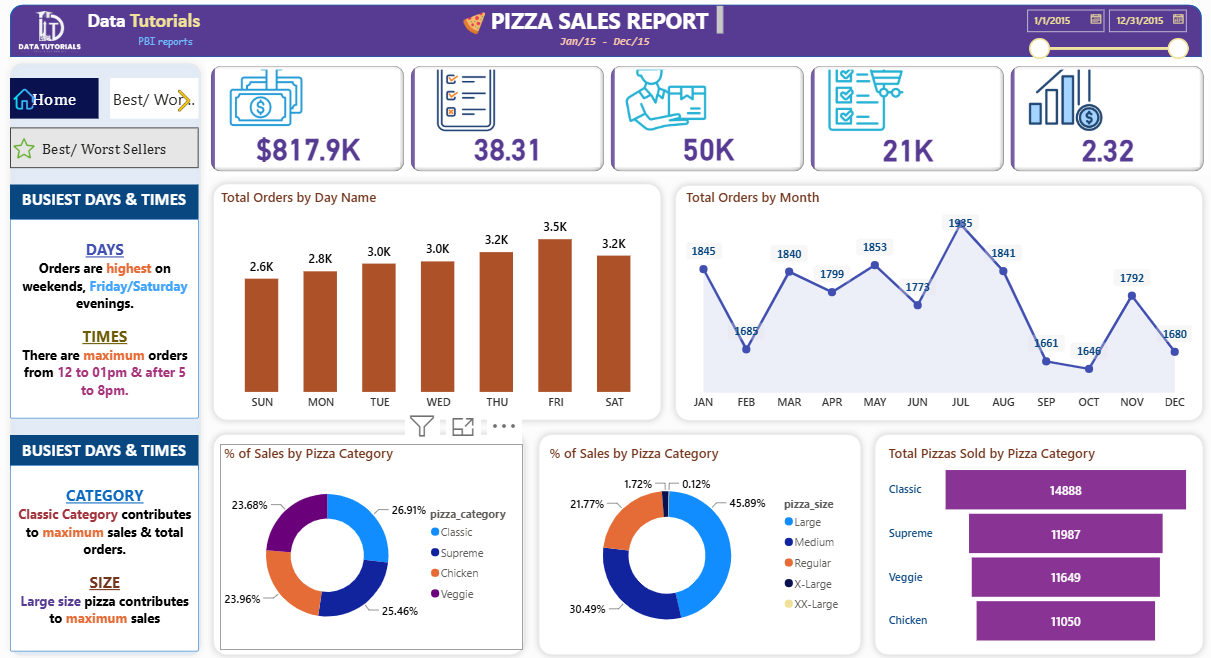

The dashboard page shown, as its layout file describes it:
{"tool":"tableau","page":{"name":"Home","canvas":[1600,900],"ordinal":1},"visuals":[{"type":"image","param":"Image/Pizza Tableau.jpg","box":[0,0,1600,900]},{"type":"text","box":[107,16,153,31]},{"type":"text","box":[618,16,362,36]},{"type":"filter","title":"Total Orders Trend by Order Hour","param":"[federated.1nn7g37097crt1180lo9p08y1th8].[none:order_date:qk]","box":[1376,16,200,57]},{"type":"filter","title":"Total Orders Trend by Order Hour","param":"[federated.1nn7g37097crt1180lo9p08y1th8].[none:pizza_category:nk]","box":[1186,17,182,59]},{"type":"image","param":"Image/DT 2.png","box":[21,20,72,49]},{"type":"image","param":"Image/pizza-slice.png","box":[577,22,44,28]},{"type":"text","box":[143,40,110,31]},{"type":"worksheet","title":"Date Range","mark":"Automatic","box":[692,52,205,20]},{"type":"image","param":"Image/profit-growth.png","box":[389,91,45,37]},{"type":"image","param":"Image/delivery-man.png","box":[1165,92,40,34]},{"type":"image","param":"Image/shipping-box.png","box":[645,94,43,31]},{"type":"image","param":"Image/order-delivery.png","box":[910,94,38,31]},{"type":"image","param":"Image/order (1).png","box":[1422,95,41,34]},{"type":"dashboard-object","box":[26,106,233,47]},{"type":"image","param":"Image/home (1) 1.png","box":[27,113,42,36]},{"type":"worksheet","title":"KPI Banner","mark":"Automatic","box":[281,134,1290,82]},{"type":"dashboard-object","box":[26,162,233,47]},{"type":"image","param":"Image/choice 1.png","box":[27,167,42,36]},{"type":"text","box":[18,232,250,30]},{"type":"worksheet","title":"Total Orders by Month ","mark":"Area","rows":["Calculation_1225260629919797248","Calculation_1225260629919797248"],"cols":["order_date"],"box":[931,234,645,298]},{"type":"legend","title":"Total Orders Trend by Order Hour","param":"[federated.1nn7g37097crt1180lo9p08y1th8].[none:pizza_category:nk]","box":[695,236,252,45]},{"type":"worksheet","title":"Total Orders Trend by Order Hour","mark":"Bar","rows":["Calculation_1225260629920124930","Calculation_1225260629920124930"],"cols":["order_time"],"box":[282,238,628,293]},{"type":"text","box":[21,262,243,274]},{"type":"text","box":[18,547,250,30]},{"type":"worksheet","title":"% of Sales by Pizza Category","mark":"Pie","rows":["Calculation_1225260630074863622","Calculation_1225260630263562255"],"box":[286,554,415,322]},{"type":"text","box":[1185,555,372,30]},{"type":"worksheet","title":"Sheet 8","mark":"Line","rows":["pizza_size"],"box":[730,556,428,322]},{"type":"text","box":[23,577,239,306]},{"type":"legend","title":"Total Orders & Quantity Sold by Pizza Category (2)","param":"[federated.1nn7g37097crt1180lo9p08y1th8].[:Measure Names]","box":[1193,599,364,26]},{"type":"worksheet","title":"Total Orders & Quantity Sold by Pizza Category (2)","mark":"Automatic","rows":["pizza_category"],"box":[1180,628,389,250]}]}

Visuals, with their boxes on the page's 1600x900 design canvas (x1, y1, x2, y2). These are canvas units, not pixel positions in the 1211x658 screenshot, which may show the page scaled, cropped or inside an application window:
image: locate(0, 0, 1600, 900)
text: locate(107, 16, 260, 47)
text: locate(618, 16, 980, 52)
"Total Orders Trend by Order Hour" filter: locate(1376, 16, 1576, 73)
"Total Orders Trend by Order Hour" filter: locate(1186, 17, 1368, 76)
image: locate(21, 20, 93, 69)
image: locate(577, 22, 621, 50)
text: locate(143, 40, 253, 71)
"Date Range" worksheet: locate(692, 52, 897, 72)
image: locate(389, 91, 434, 128)
image: locate(1165, 92, 1205, 126)
image: locate(645, 94, 688, 125)
image: locate(910, 94, 948, 125)
image: locate(1422, 95, 1463, 129)
dashboard-object: locate(26, 106, 259, 153)
image: locate(27, 113, 69, 149)
"KPI Banner" worksheet: locate(281, 134, 1571, 216)
dashboard-object: locate(26, 162, 259, 209)
image: locate(27, 167, 69, 203)
text: locate(18, 232, 268, 262)
"Total Orders by Month " worksheet (Area marks): locate(931, 234, 1576, 532)
"Total Orders Trend by Order Hour" legend: locate(695, 236, 947, 281)
"Total Orders Trend by Order Hour" worksheet (Bar marks): locate(282, 238, 910, 531)
text: locate(21, 262, 264, 536)
text: locate(18, 547, 268, 577)
"% of Sales by Pizza Category" worksheet (Pie marks): locate(286, 554, 701, 876)
text: locate(1185, 555, 1557, 585)
"Sheet 8" worksheet (Line marks): locate(730, 556, 1158, 878)
text: locate(23, 577, 262, 883)
"Total Orders & Quantity Sold by Pizza Category (2)" legend: locate(1193, 599, 1557, 625)
"Total Orders & Quantity Sold by Pizza Category (2)" worksheet: locate(1180, 628, 1569, 878)
